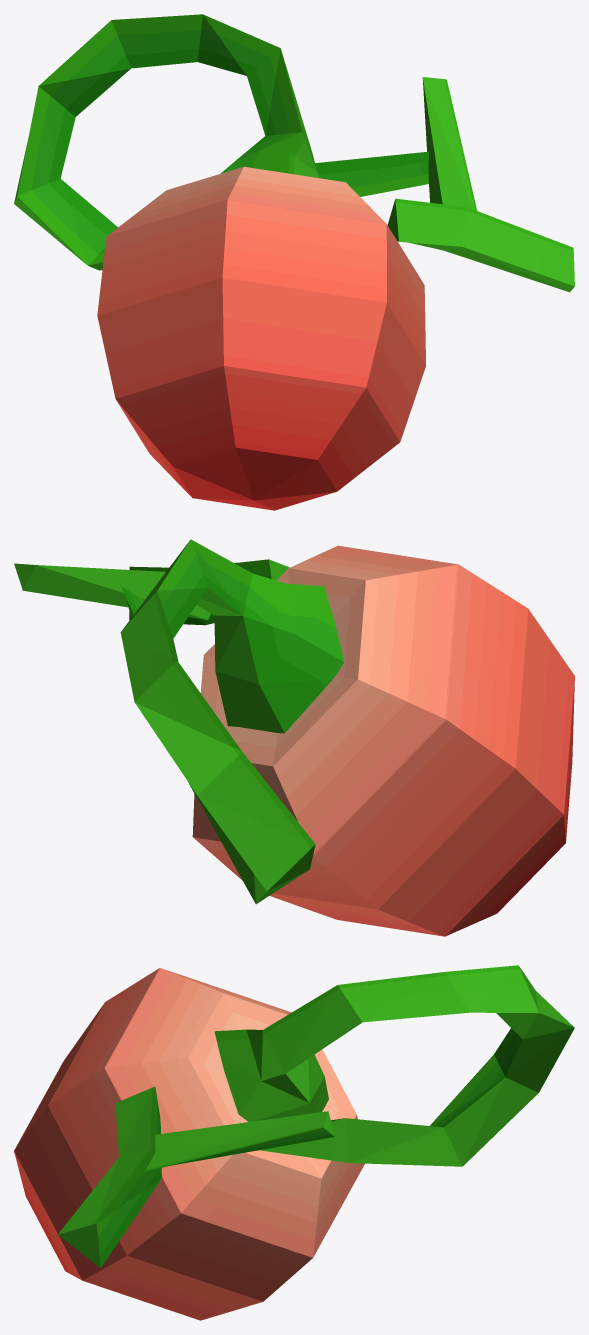
Rendered from item_it04_05_KURABO.dae.
The picture shows the model from 3 angles, top to bottom: view 1: azimuth 30°, elevation 25°; view 2: azimuth 150°, elevation 25°; view 3: azimuth 270°, elevation 25°; orthographic projection. The views are drawn at different scales.
Parts seen in each view (by area): view 1: vsn_mesh_0_kurabo; view 2: vsn_mesh_0_kurabo; view 3: vsn_mesh_0_kurabo.
Boxes of the visible parts, bbox=[...] form: vsn_mesh_0_kurabo: bbox=[14, 14, 574, 510]; vsn_mesh_0_kurabo: bbox=[14, 539, 574, 936]; vsn_mesh_0_kurabo: bbox=[14, 965, 574, 1320].
Size of the model in its own units: 0.3514 by 0.294 by 0.4099.
Materials: 1 (1 with a texture image).
